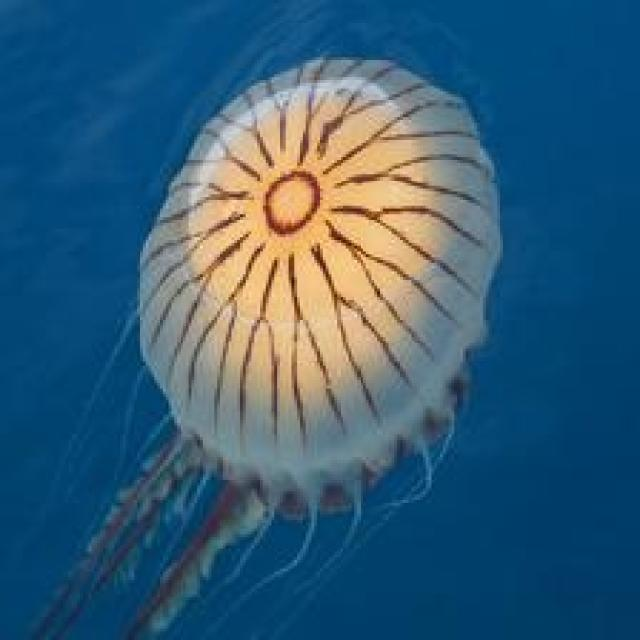Box-jellyfish: (0, 52, 503, 637)
